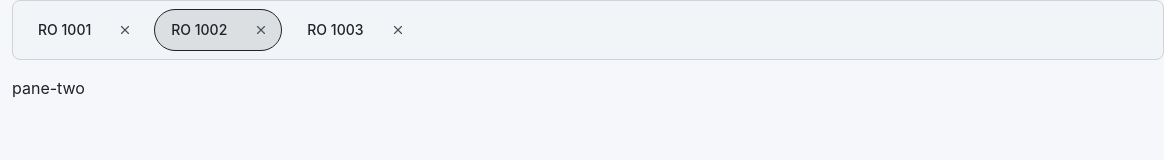
WorkspaceShell › closing the active tab activates its neighbor
Click the button named "Close RO 1002" at (261, 30), box [247, 16, 275, 44]
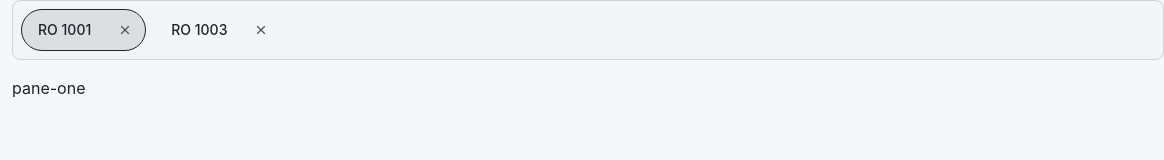
Check: the text "pane-two" is gone
